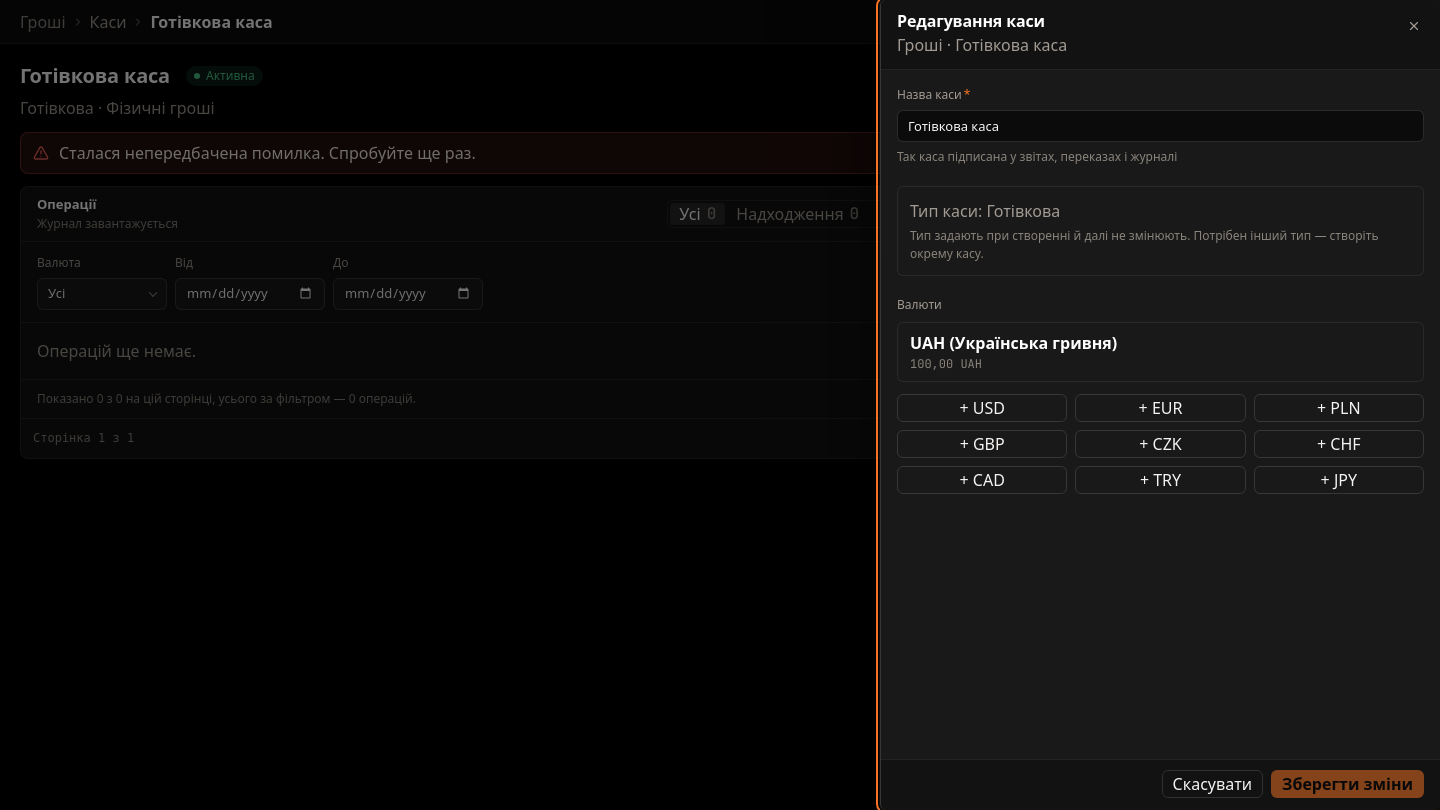
Test: adds GBP to an existing UAH cash register and refreshes its currencies
Click the button with aria-label "Додати GBP" at (982,444), box left=897, top=430, right=1067, bottom=458
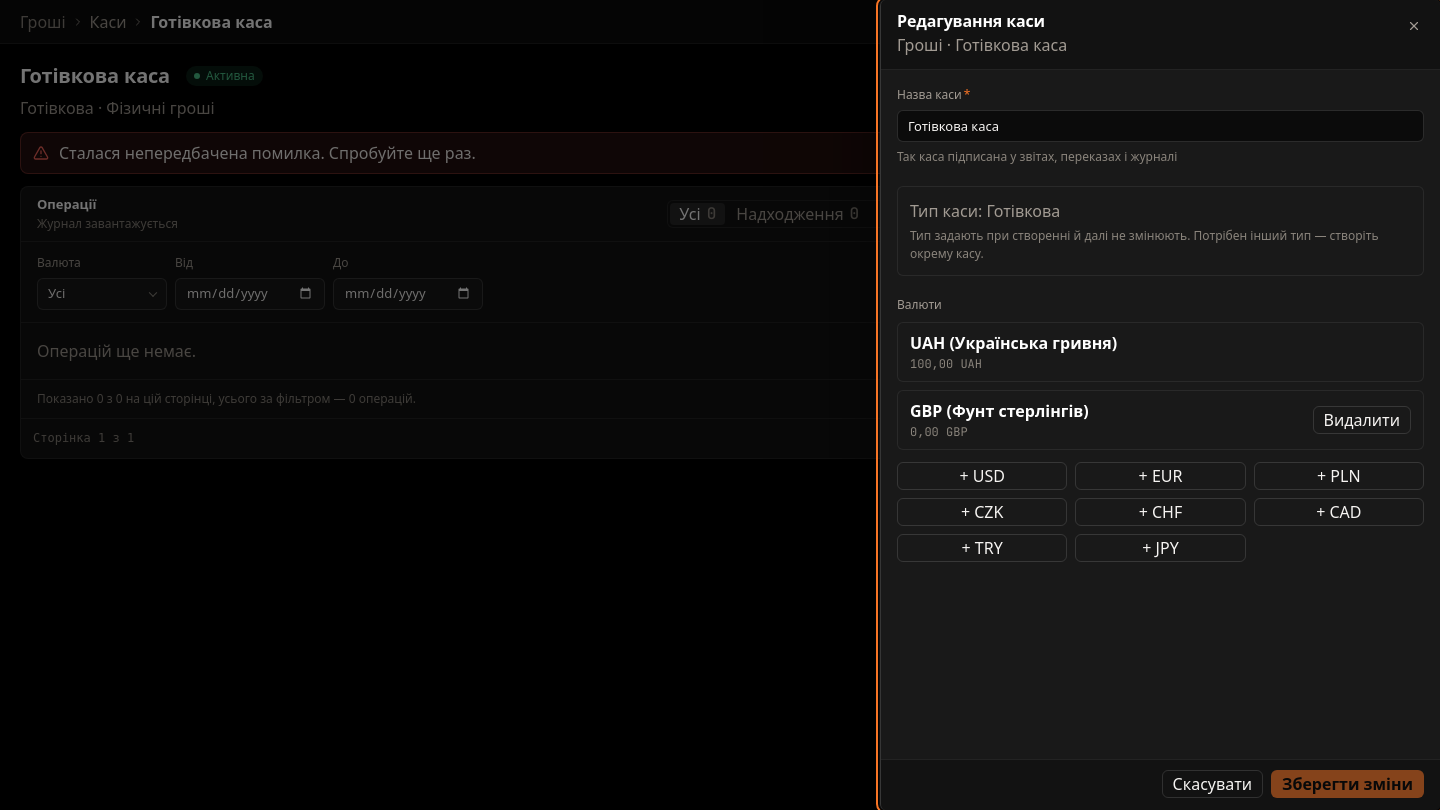
Check: the text "UAH (Українська гривня)" is shown, box left=910, top=331, right=1117, bottom=355
Check: the text "GBP (Фунт стерлінгів)" is shown, box left=910, top=399, right=1089, bottom=423
